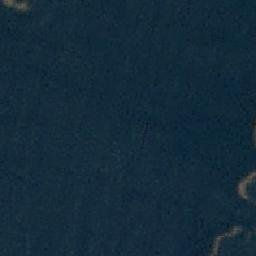debris: (235, 169, 255, 204), (1, 1, 30, 15), (208, 233, 226, 251), (223, 226, 241, 238)
